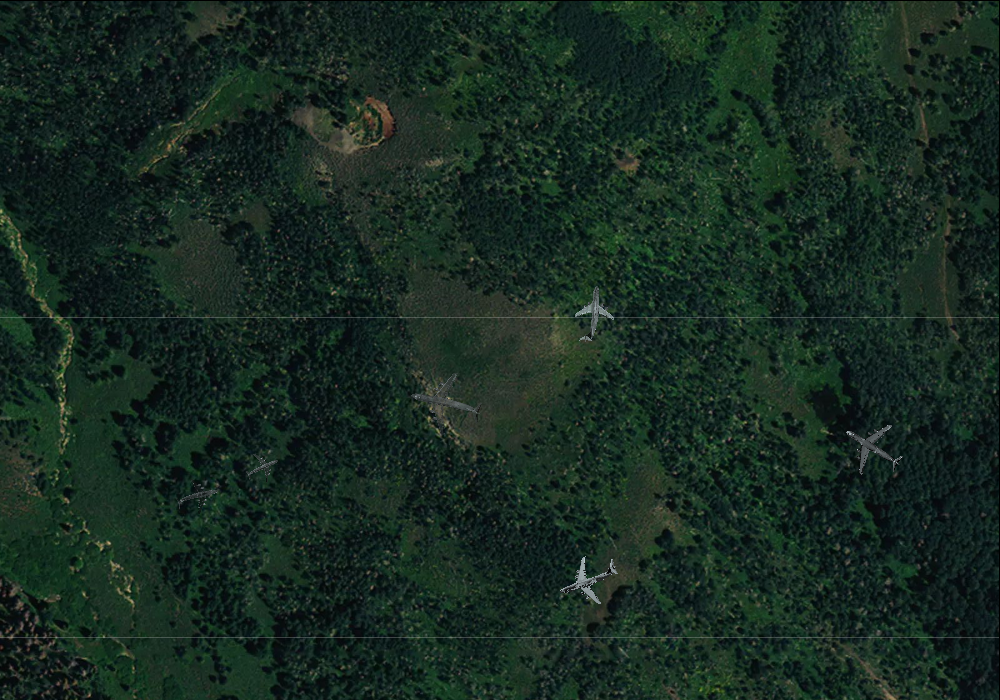plane: (831, 406, 915, 489), (403, 363, 488, 445), (549, 542, 627, 617), (565, 283, 618, 344), (171, 472, 222, 522), (239, 446, 284, 490)
